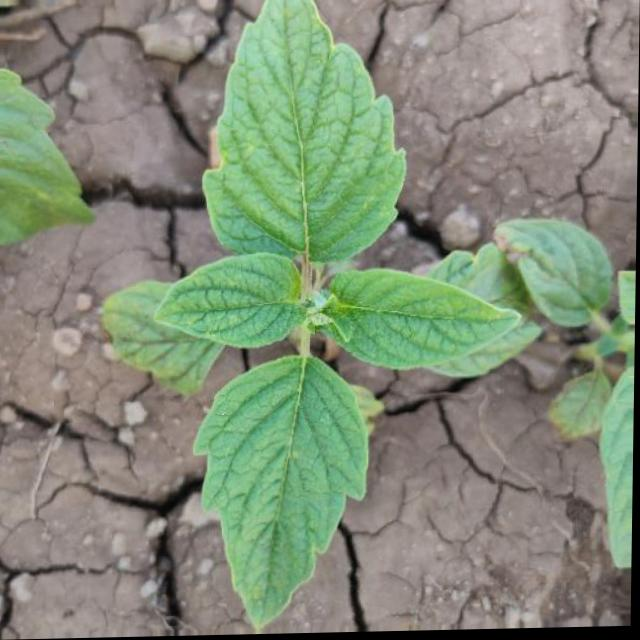crop: (85, 0, 547, 638)
